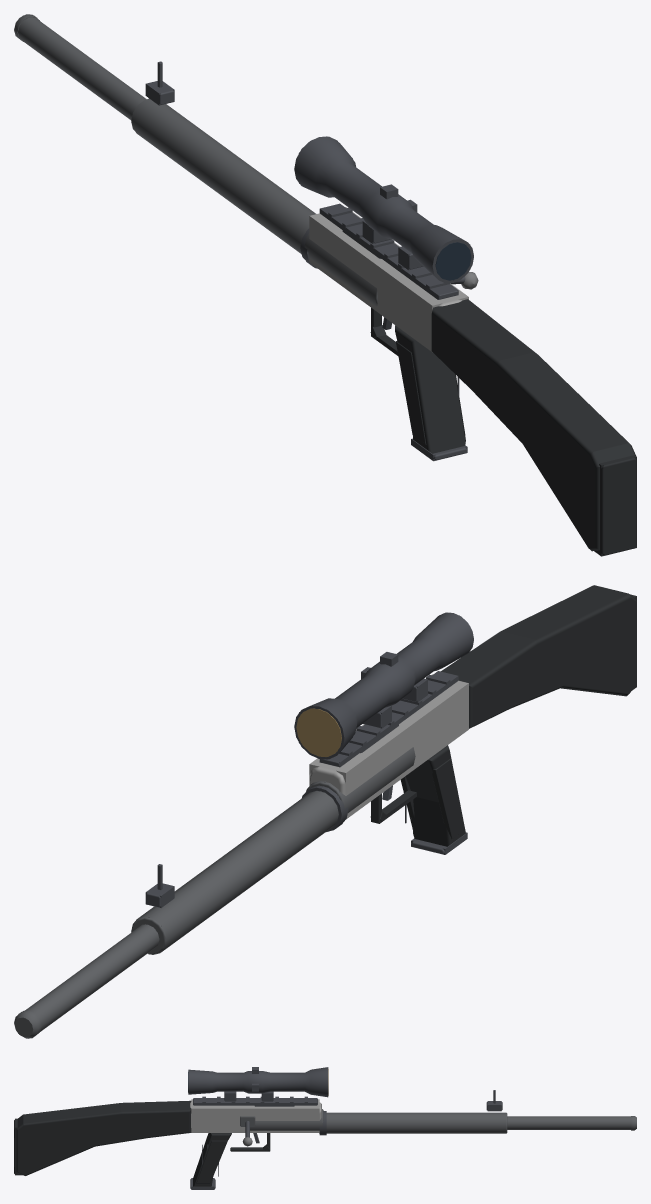
The model's file is n_ridge.glb.
The picture shows the model from 3 angles, top to bottom: view 1: azimuth 30°, elevation 25°; view 2: azimuth 150°, elevation 25°; view 3: azimuth 270°, elevation 25°; orthographic projection. The views are drawn at different scales.
Visible parts, largest first — view 1: L0, L1; view 2: L0, L1; view 3: L0, L1.
Part boxes in pixels (x1,y1,x2,y2): L0: (14,14,636,555); L1: (15,15,636,556); L0: (14,585,636,1038); L1: (15,595,636,1038); L0: (14,1067,636,1188); L1: (15,1067,636,1189).
Bounding box in the file's own units: 0.1095 × 0.2215 × 1.07.
